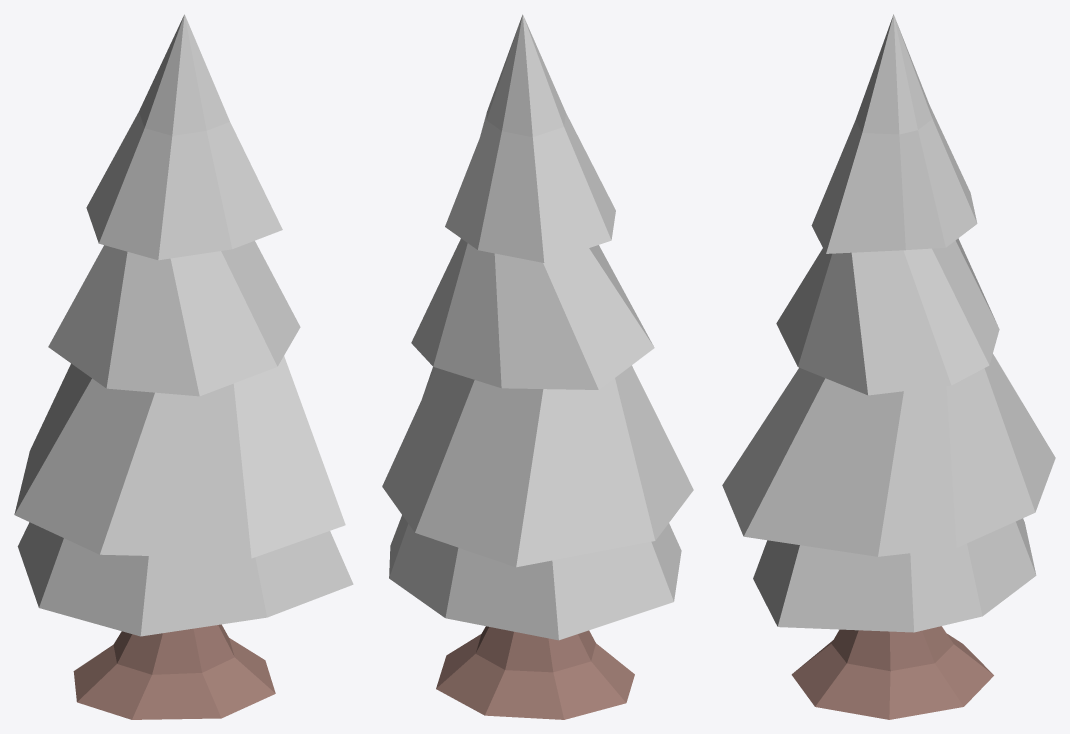
Rendered from tree.fbx.
The picture shows the model from 3 angles, left to right: view 1: azimuth 30°, elevation 25°; view 2: azimuth 150°, elevation 25°; view 3: azimuth 270°, elevation 25°; orthographic projection.
Parts seen in each view (by area): view 1: Cylinder; view 2: Cylinder; view 3: Cylinder.
Part boxes in pixels (bbox=[...]): Cylinder: bbox=[14, 14, 353, 719]; Cylinder: bbox=[382, 14, 693, 719]; Cylinder: bbox=[722, 14, 1055, 719].
Bounding box in the file's own units: 211 × 480 × 217.
